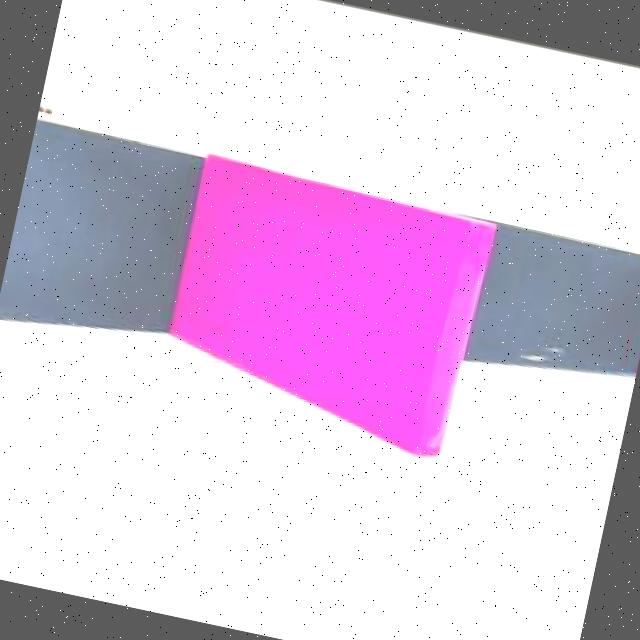xparking: (164, 163, 498, 426)
